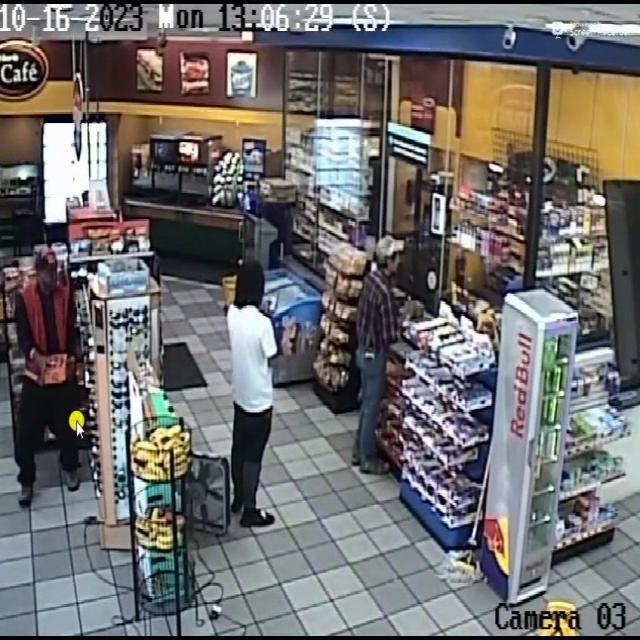Normal: (213, 247, 293, 538), (345, 207, 418, 486), (16, 244, 91, 488)
